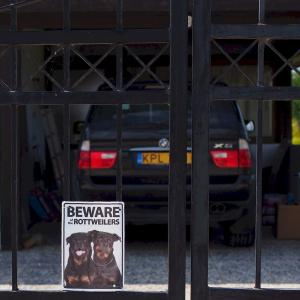Vehicle-registration-plate: (139, 153, 193, 165)
